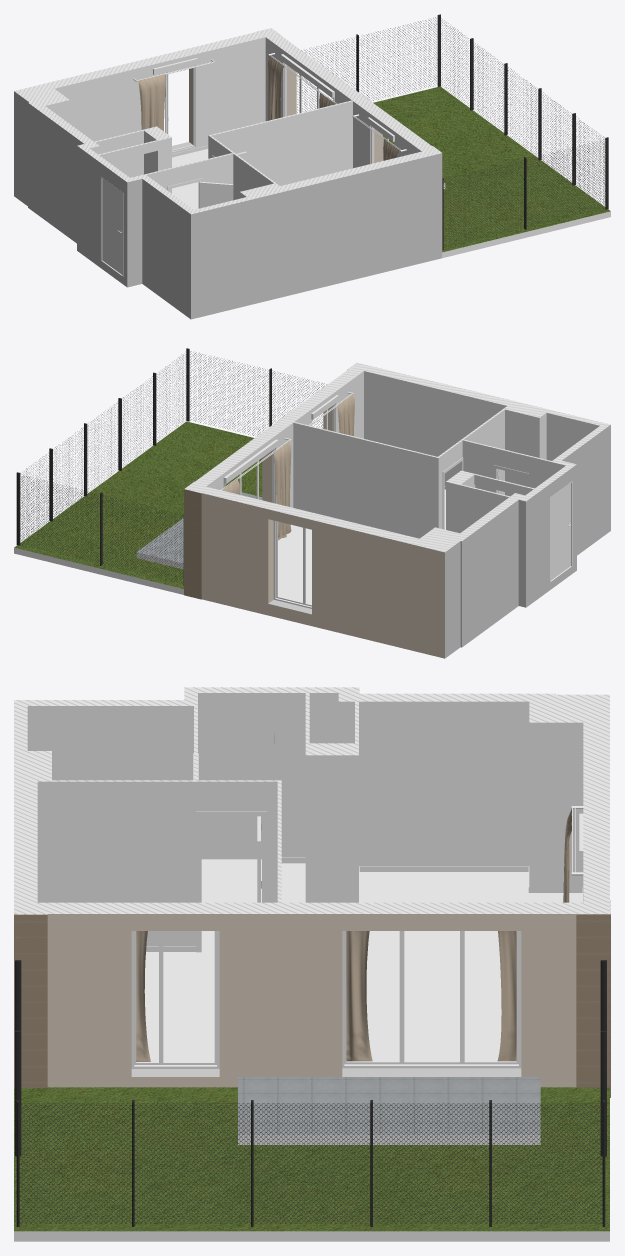
3 renders of one model, top to bottom at view 1: azimuth 30°, elevation 25°; view 2: azimuth 150°, elevation 25°; view 3: azimuth 270°, elevation 25°, orthographic. The views are drawn at different scales.
Parts seen in each view (by area): view 1: masonry_01, ground_garden_01, fence_square_01, section_face_01, door_01, curtain_02, french_window_double_01, curtain_01, french_window_triple_01, ground_living_01, interior_door_panel_02, french_window_double_02; view 2: masonry_01, ground_garden_01, wallpaint_01, fence_square_01, section_face_01, wallpaint_02, ground_living_01, door_01, curtain_01, ground_terrace_01, walltiles_simple_01, french_window_triple_01 (+3 smaller); view 3: masonry_01, ground_garden_01, fence_square_01, section_face_01, ground_terrace_01, ground_living_01, door_01, ground_bed_01, walltiles_simple_01, ground_kitchen_01, curtain_01, french_window_triple_01 (+5 smaller).
Boxes of the visible parts, box(x1,y1,x2,y2) form: masonry_01: box(14, 37, 610, 319); ground_garden_01: box(373, 86, 610, 251); fence_square_01: box(297, 14, 608, 249); section_face_01: box(14, 28, 441, 214); door_01: box(100, 176, 123, 276); curtain_02: box(138, 74, 165, 131); french_window_double_01: box(153, 58, 197, 153); curtain_01: box(268, 55, 335, 120); french_window_triple_01: box(280, 54, 334, 116); ground_living_01: box(172, 149, 208, 209); interior_door_panel_02: box(199, 181, 233, 208); french_window_double_02: box(367, 117, 394, 163); masonry_01: box(14, 371, 610, 658); ground_garden_01: box(14, 421, 262, 588); wallpaint_01: box(293, 422, 438, 538); fence_square_01: box(16, 348, 326, 585); section_face_01: box(184, 362, 610, 552); wallpaint_02: box(364, 371, 506, 485); ground_living_01: box(278, 524, 311, 604); door_01: box(550, 481, 572, 582); curtain_01: box(222, 441, 291, 540); ground_terrace_01: box(137, 492, 262, 563); walltiles_simple_01: box(505, 427, 539, 496); french_window_triple_01: box(223, 439, 278, 503); masonry_01: box(14, 693, 610, 1241); ground_garden_01: box(14, 1087, 609, 1231); fence_square_01: box(15, 960, 606, 1226); section_face_01: box(14, 687, 610, 914); ground_terrace_01: box(238, 1077, 540, 1134); ground_living_01: box(366, 931, 501, 1061); door_01: box(199, 717, 276, 859); ground_bed_01: box(144, 951, 214, 1061); walltiles_simple_01: box(27, 736, 193, 780); ground_kitchen_01: box(359, 872, 582, 902); curtain_01: box(346, 931, 516, 1061); french_window_triple_01: box(342, 931, 521, 1068).
Bounding box in the file's own units: 11.71 × 2.7 × 7.96.
42 materials, 27 textured.
